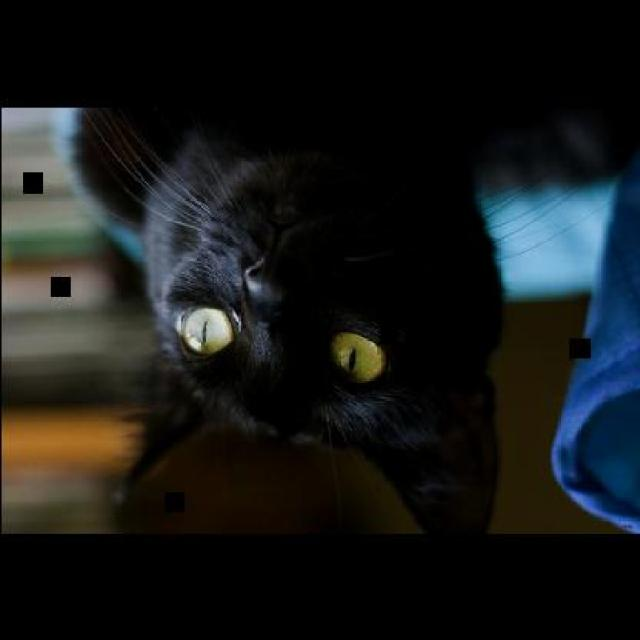unauthorized: (60, 98, 625, 534)
